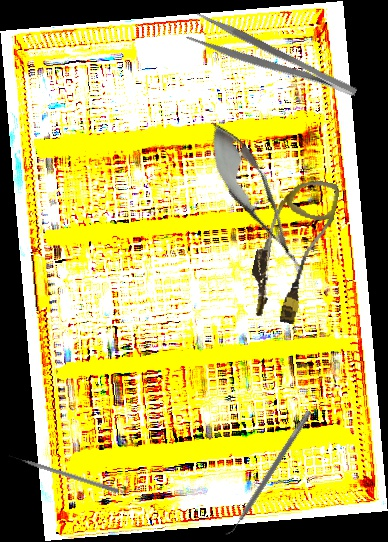Cannula: (243, 170, 341, 329)
Dressing Forceps: (185, 10, 360, 114)
Micro Scissor: (193, 111, 321, 286)
Pusher: (7, 452, 121, 494)
Spatula Surgical: (222, 406, 313, 540)
